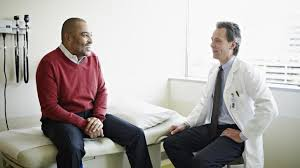Caution: (35, 17, 280, 167)
